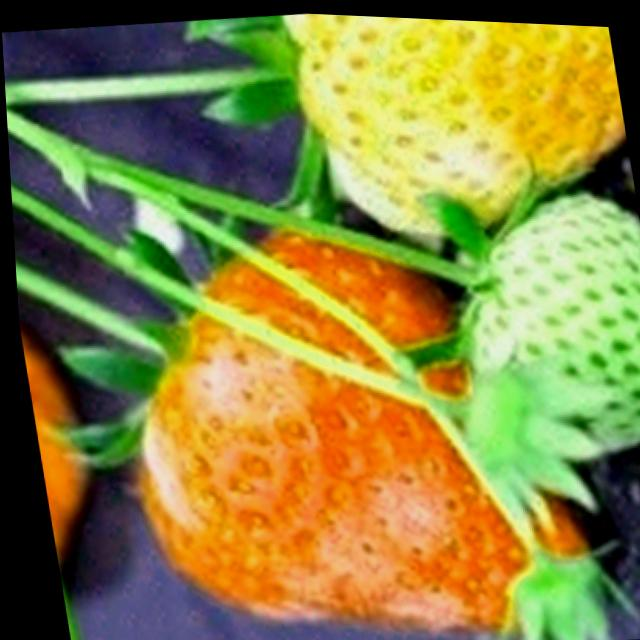Powdery Mildew Fruit: (130, 274, 511, 626)
